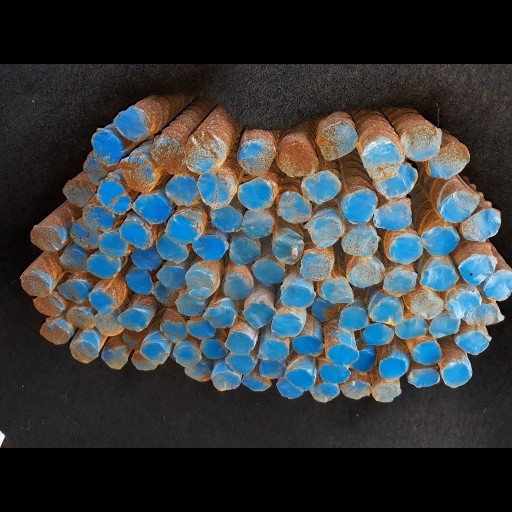dipstick: (186, 131, 227, 173), (362, 138, 403, 180), (315, 121, 359, 160), (277, 141, 318, 178), (429, 142, 470, 178), (301, 169, 342, 205), (236, 139, 275, 176), (198, 171, 235, 210), (402, 125, 441, 161), (461, 207, 501, 242), (118, 156, 154, 193), (91, 127, 121, 171), (97, 179, 133, 215), (238, 177, 273, 214), (151, 137, 185, 175), (131, 191, 169, 225), (439, 190, 480, 221), (112, 107, 149, 141), (458, 253, 496, 286), (276, 190, 312, 224), (164, 173, 200, 206), (343, 190, 377, 224), (446, 288, 482, 320), (421, 226, 458, 257), (382, 267, 417, 299), (373, 201, 412, 229), (419, 264, 459, 291), (166, 212, 198, 245), (340, 228, 378, 255), (272, 232, 304, 264), (119, 220, 152, 251), (347, 261, 385, 287), (299, 251, 333, 280), (157, 233, 188, 264), (82, 204, 116, 232), (240, 209, 272, 238), (210, 203, 242, 232), (191, 235, 228, 260), (484, 268, 512, 301), (320, 276, 353, 304), (370, 299, 403, 327), (462, 304, 504, 326), (390, 234, 421, 263), (243, 301, 276, 328), (62, 178, 91, 208), (30, 225, 62, 252), (270, 311, 302, 338), (253, 259, 286, 285), (410, 293, 444, 318), (98, 230, 128, 258), (394, 315, 429, 339), (68, 223, 99, 250), (230, 239, 262, 265), (280, 285, 316, 308), (455, 332, 489, 356), (185, 270, 214, 298), (429, 311, 460, 337), (338, 305, 368, 331), (130, 243, 161, 268), (412, 340, 443, 365), (442, 363, 471, 389), (201, 306, 235, 328), (19, 274, 50, 298), (57, 279, 88, 303), (224, 331, 255, 355), (85, 254, 117, 277), (291, 333, 323, 356), (88, 290, 116, 316), (379, 357, 408, 382), (186, 315, 215, 340), (56, 249, 86, 273), (223, 276, 254, 299), (174, 292, 205, 315), (285, 369, 316, 392), (93, 313, 124, 336), (326, 343, 358, 365), (362, 323, 394, 345), (160, 319, 188, 344), (311, 296, 339, 321), (125, 269, 154, 293), (70, 340, 99, 364), (82, 152, 105, 182), (39, 323, 69, 346), (33, 294, 63, 317), (116, 308, 147, 330), (156, 266, 185, 289), (256, 340, 289, 360), (406, 369, 440, 388), (340, 380, 372, 400), (318, 364, 351, 383), (153, 282, 179, 306), (225, 354, 256, 374), (66, 308, 94, 330), (199, 338, 228, 359), (141, 342, 167, 365), (310, 382, 340, 401), (210, 372, 240, 391), (101, 349, 128, 370), (277, 378, 303, 399), (173, 346, 199, 367), (371, 383, 398, 403), (351, 349, 374, 372), (183, 363, 210, 382), (241, 374, 271, 391), (121, 328, 146, 347), (131, 353, 157, 371), (259, 359, 283, 378)
